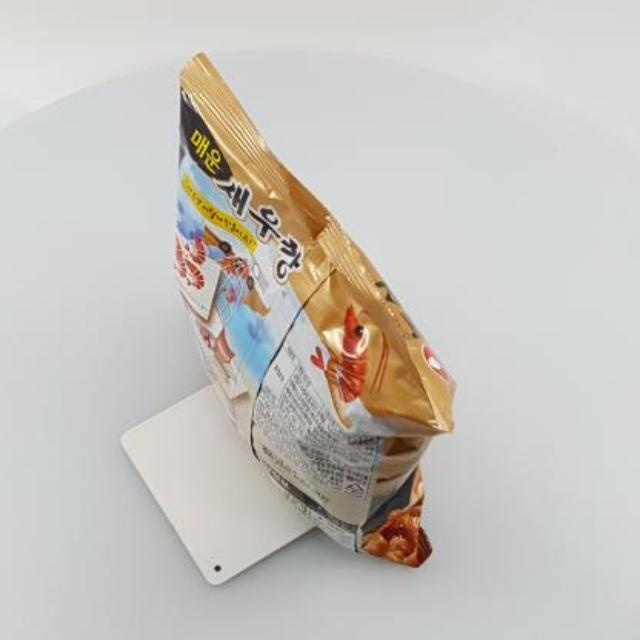snack_bag: (148, 46, 464, 582)
